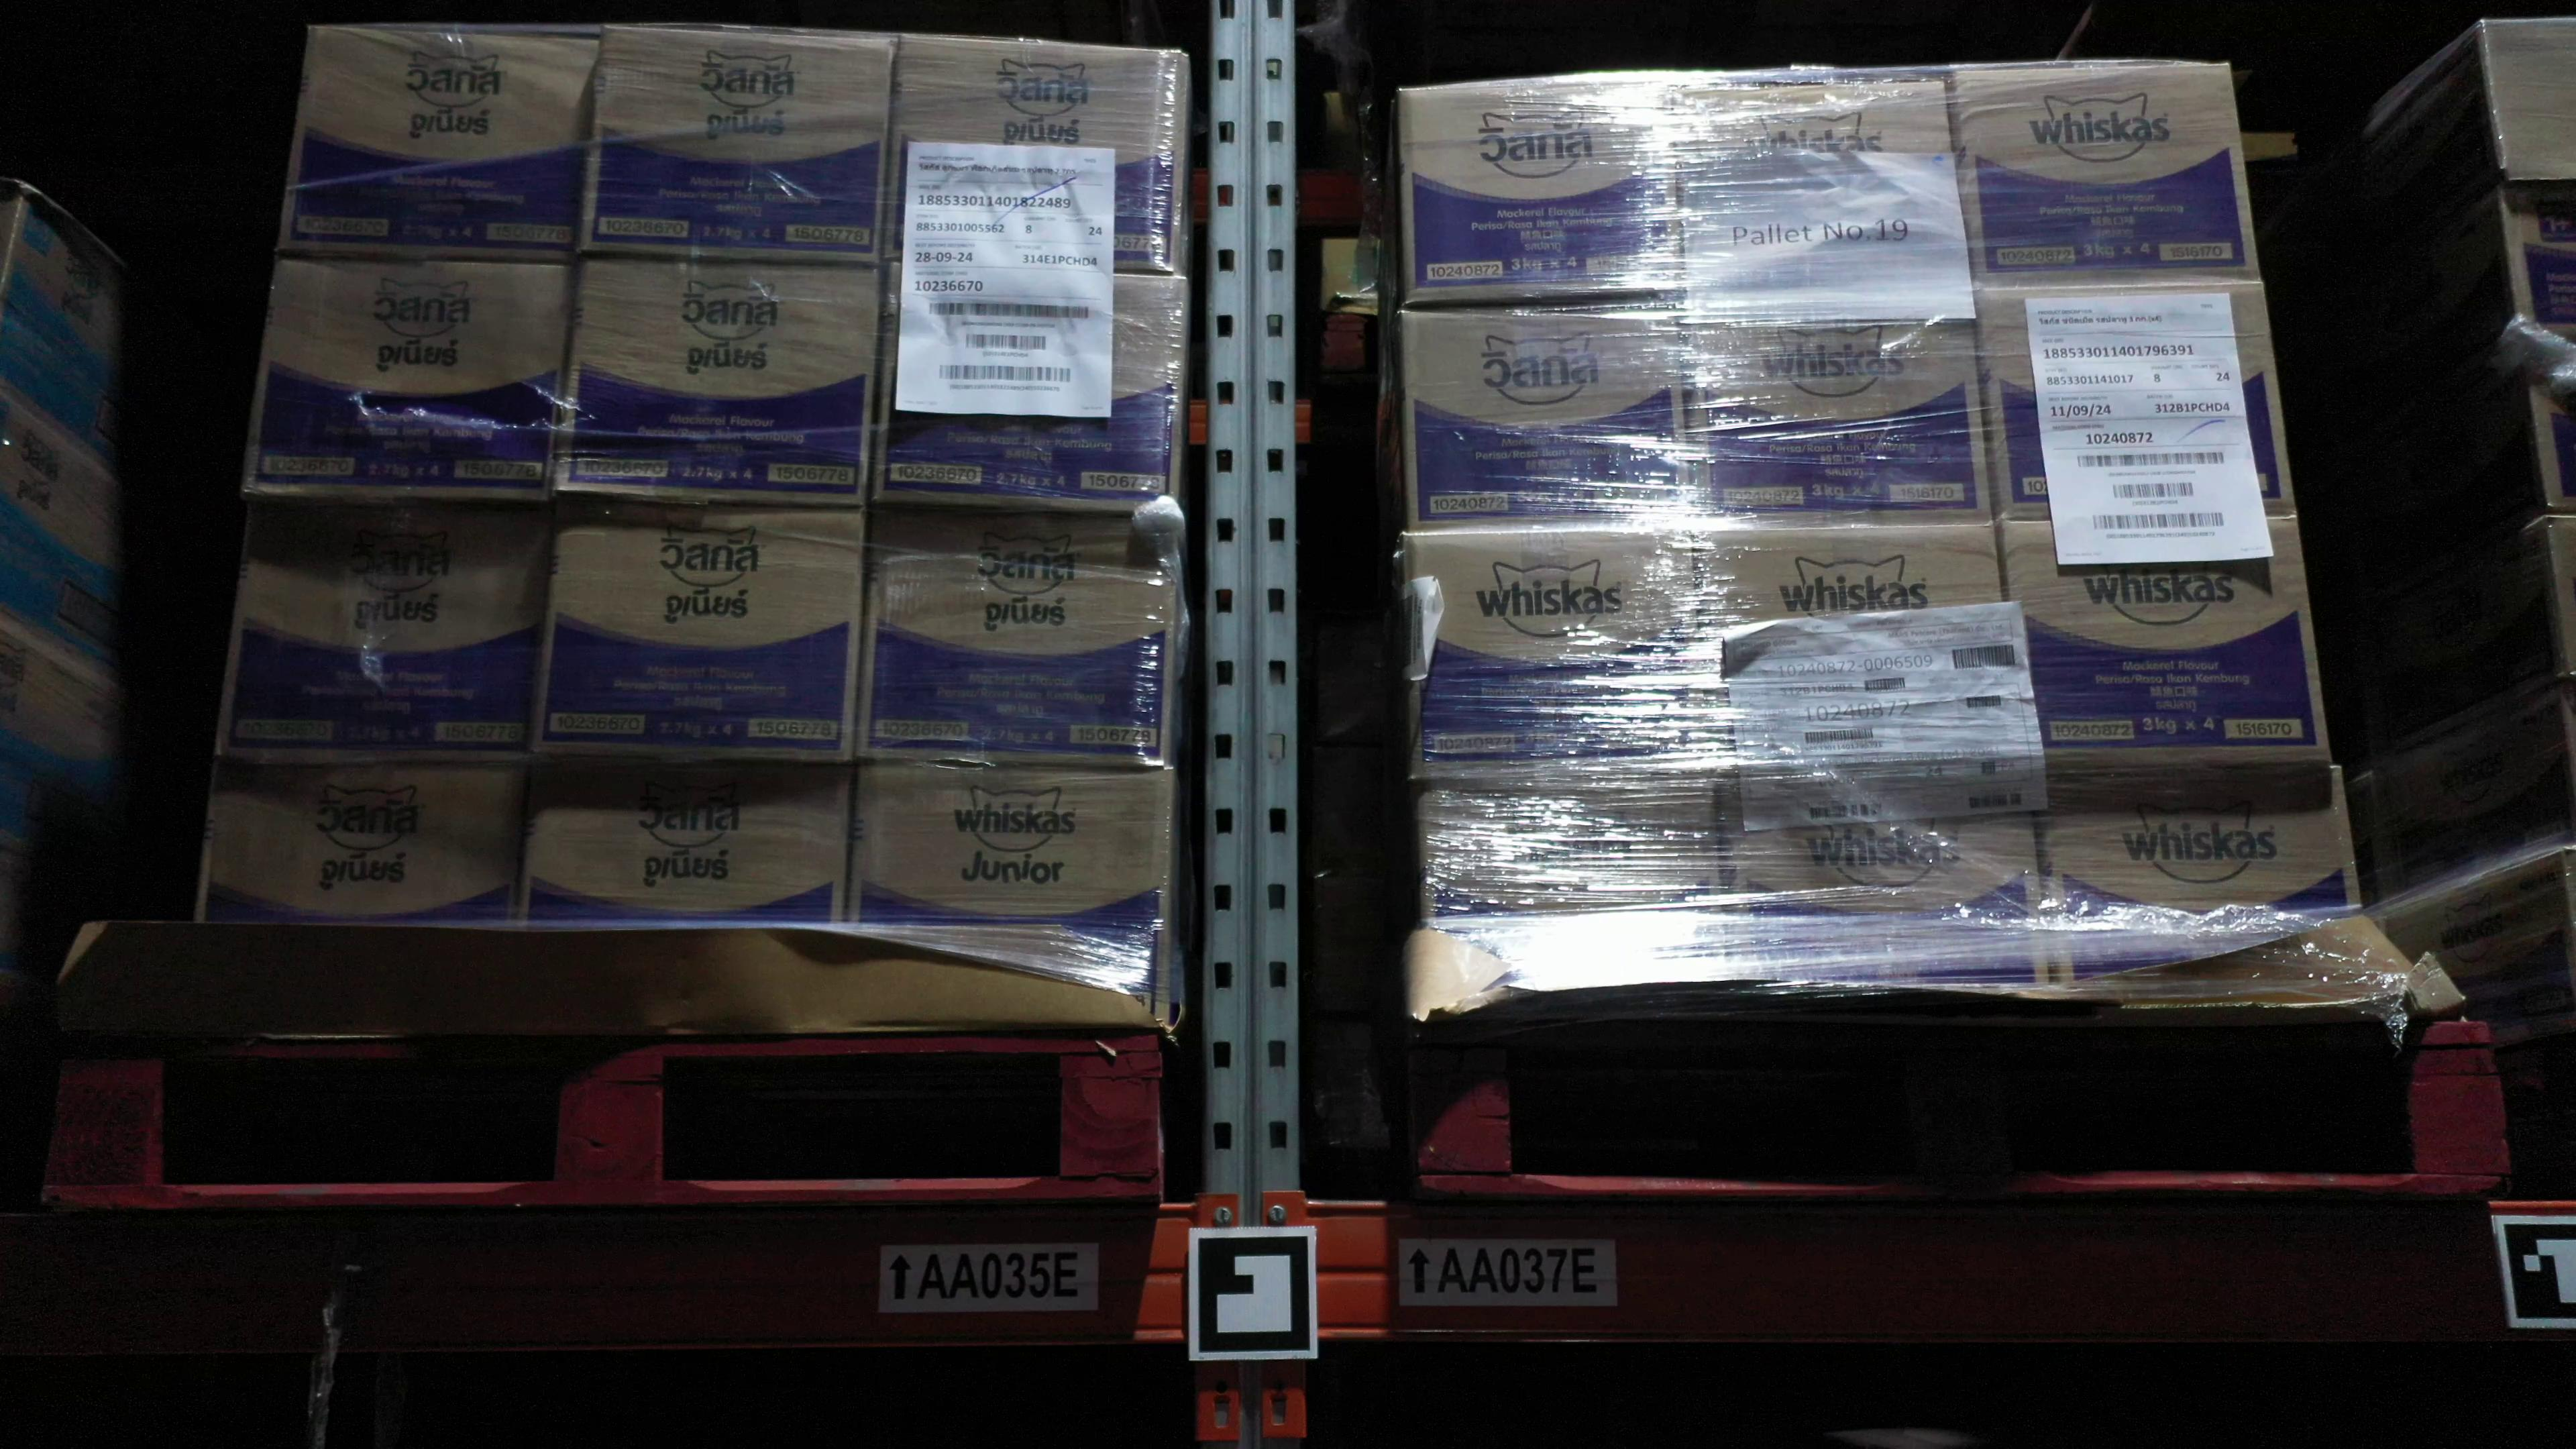-: (212, 494, 557, 764), (533, 499, 867, 764), (552, 248, 883, 510), (842, 764, 1171, 1023), (856, 502, 1171, 771), (239, 251, 575, 502), (2001, 518, 2332, 768), (874, 255, 1180, 517), (1967, 285, 2296, 525), (1697, 524, 2017, 770), (274, 25, 603, 264), (579, 23, 899, 264), (1405, 527, 1706, 782), (1948, 58, 2265, 295), (1714, 770, 2056, 989), (2033, 764, 2362, 984), (879, 32, 1184, 269), (1686, 294, 1994, 527), (1668, 67, 1967, 295), (1405, 303, 1695, 531), (1401, 71, 1681, 304), (1421, 786, 1737, 985), (515, 752, 855, 931), (193, 757, 527, 929)
